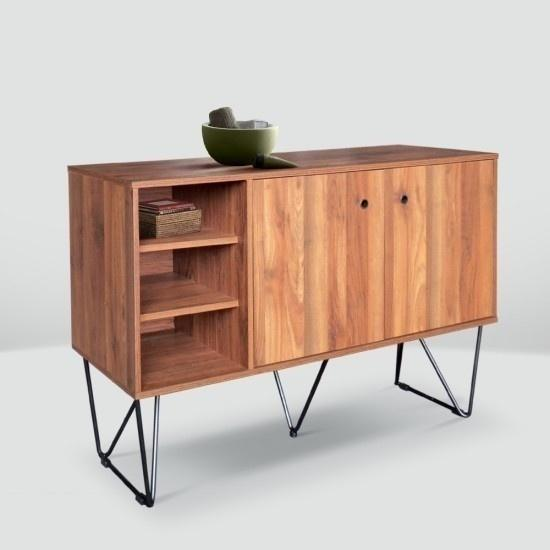cabinet_door: (253, 175, 381, 357), (385, 162, 496, 330)
handle: (397, 191, 412, 208), (357, 194, 370, 211)
